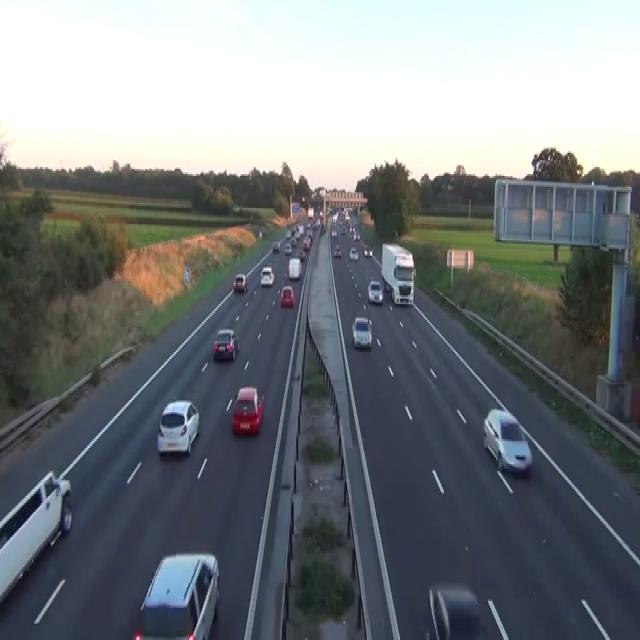Car: (0, 469, 72, 606), (132, 551, 219, 638), (482, 407, 532, 475), (427, 582, 483, 638), (156, 398, 200, 455), (231, 386, 264, 436), (213, 327, 239, 361), (351, 316, 372, 348), (367, 279, 383, 304), (280, 284, 294, 308), (259, 265, 274, 286), (288, 256, 301, 279), (233, 272, 247, 292), (333, 244, 342, 258), (349, 246, 358, 260), (302, 237, 310, 250), (363, 245, 372, 256), (272, 240, 280, 252), (384, 281, 392, 293), (284, 242, 291, 254), (298, 249, 305, 261), (306, 231, 313, 242), (313, 219, 320, 229), (344, 213, 350, 224), (354, 233, 360, 242), (290, 238, 296, 247), (331, 228, 337, 236), (285, 230, 291, 238), (341, 226, 346, 234), (306, 220, 311, 228), (258, 230, 262, 238), (332, 214, 336, 222), (369, 249, 373, 256)
Truck: (380, 242, 415, 306)
